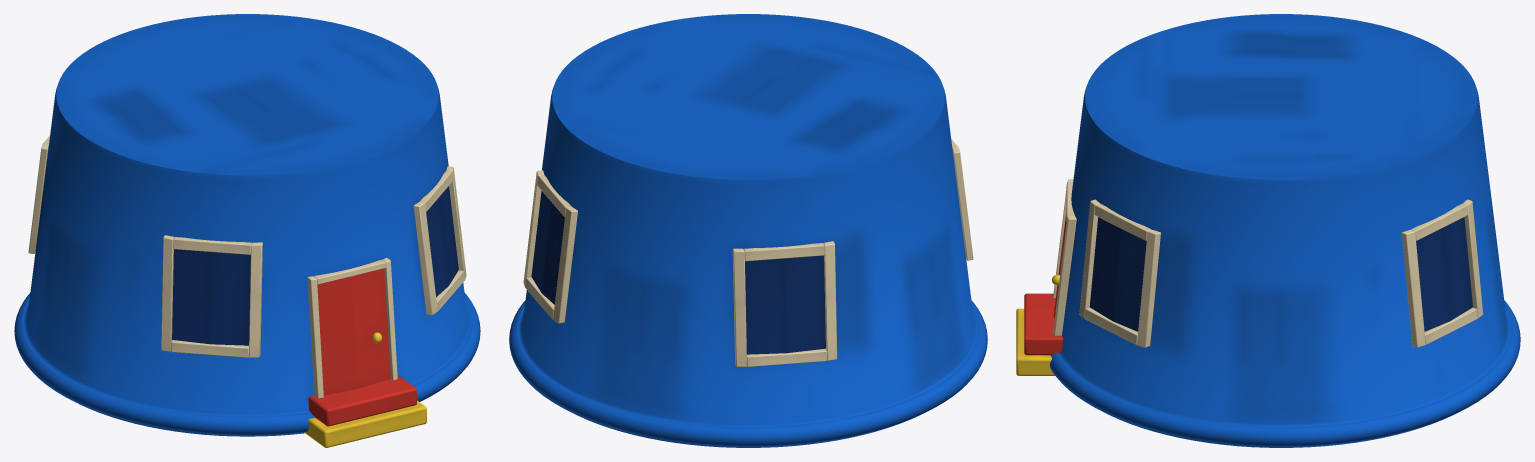
The model's file is 1-inverted-cup-1.fbx.
The picture shows the model from 3 angles, left to right: view 1: azimuth 30°, elevation 25°; view 2: azimuth 150°, elevation 25°; view 3: azimuth 270°, elevation 25°; orthographic projection. The views are drawn at different scales.
Visible parts, largest first — view 1: inverted-cup-1; view 2: inverted-cup-1; view 3: inverted-cup-1.
Part boxes in pixels (x1=…): inverted-cup-1: x1=14, y1=14, x2=480, y2=447; inverted-cup-1: x1=509, y1=14, x2=987, y2=447; inverted-cup-1: x1=1016, y1=14, x2=1520, y2=447.
Bounding box in the file's own units: 10240 × 6000 × 10790.
1 material, 1 textured.
